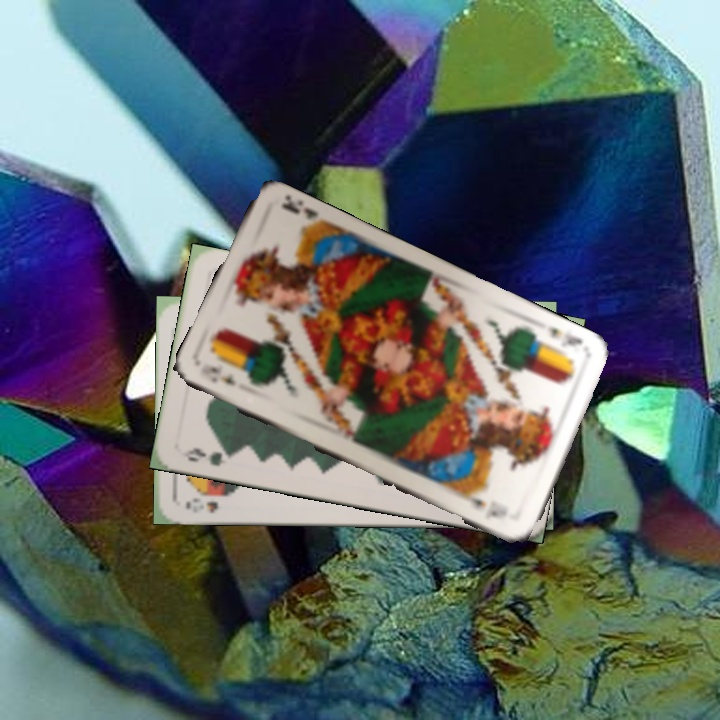EK: (542, 323, 586, 351), (197, 360, 238, 389)
G9: (177, 443, 237, 469)
SO: (181, 493, 221, 516)
